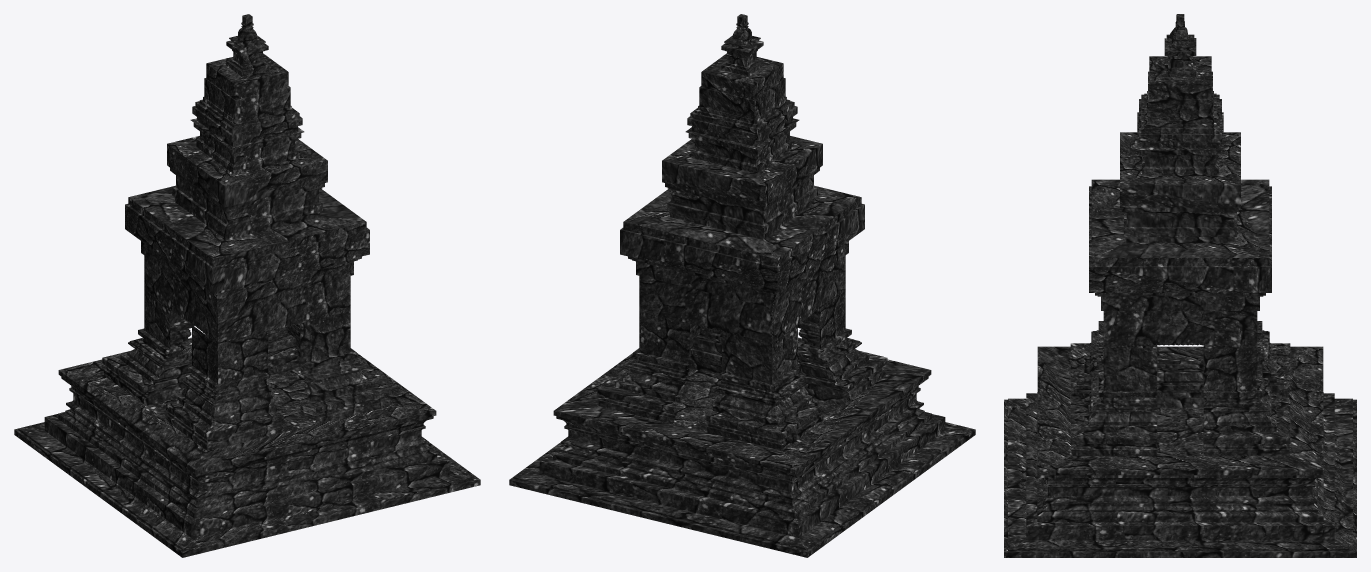
File: Candi.fbx
3 views of the same model, side by side, from view 1: azimuth 30°, elevation 25°; view 2: azimuth 150°, elevation 25°; view 3: azimuth 270°, elevation 25° (orthographic). The views are drawn at different scales.
Parts seen in each view (by area): view 1: Candi; view 2: Candi; view 3: Candi.
Part boxes in pixels (box(x1,y1,x2,y2)): Candi: box(14, 14, 480, 557); Candi: box(509, 14, 975, 557); Candi: box(1004, 14, 1356, 557).
Bounding box in the file's own units: 10.81 × 15.37 × 10.56.
